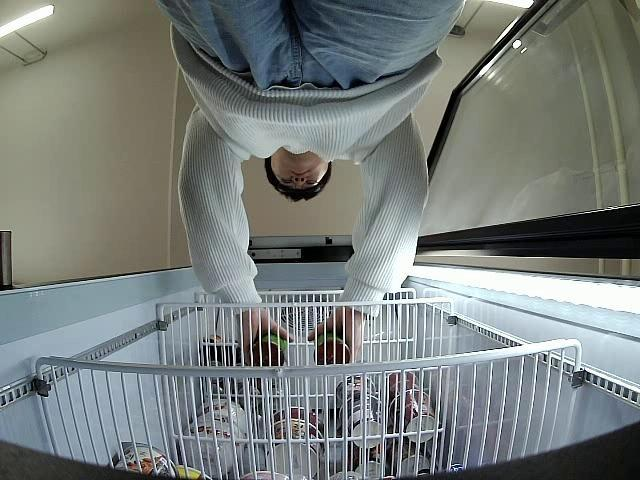19_17cha: (250, 332, 288, 368), (314, 330, 350, 366)
